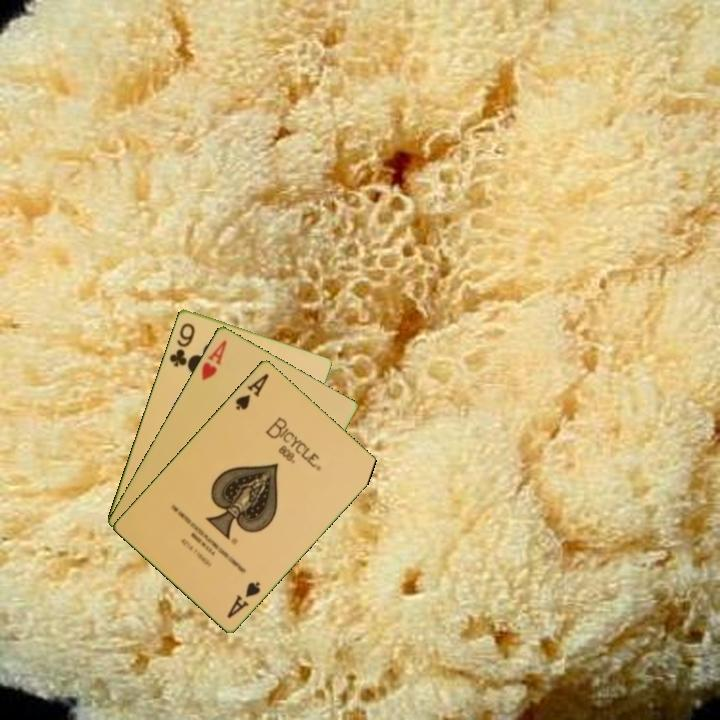9c: (165, 319, 198, 370)
Ah: (198, 336, 230, 384)
As: (232, 369, 272, 413), (223, 578, 263, 621)
